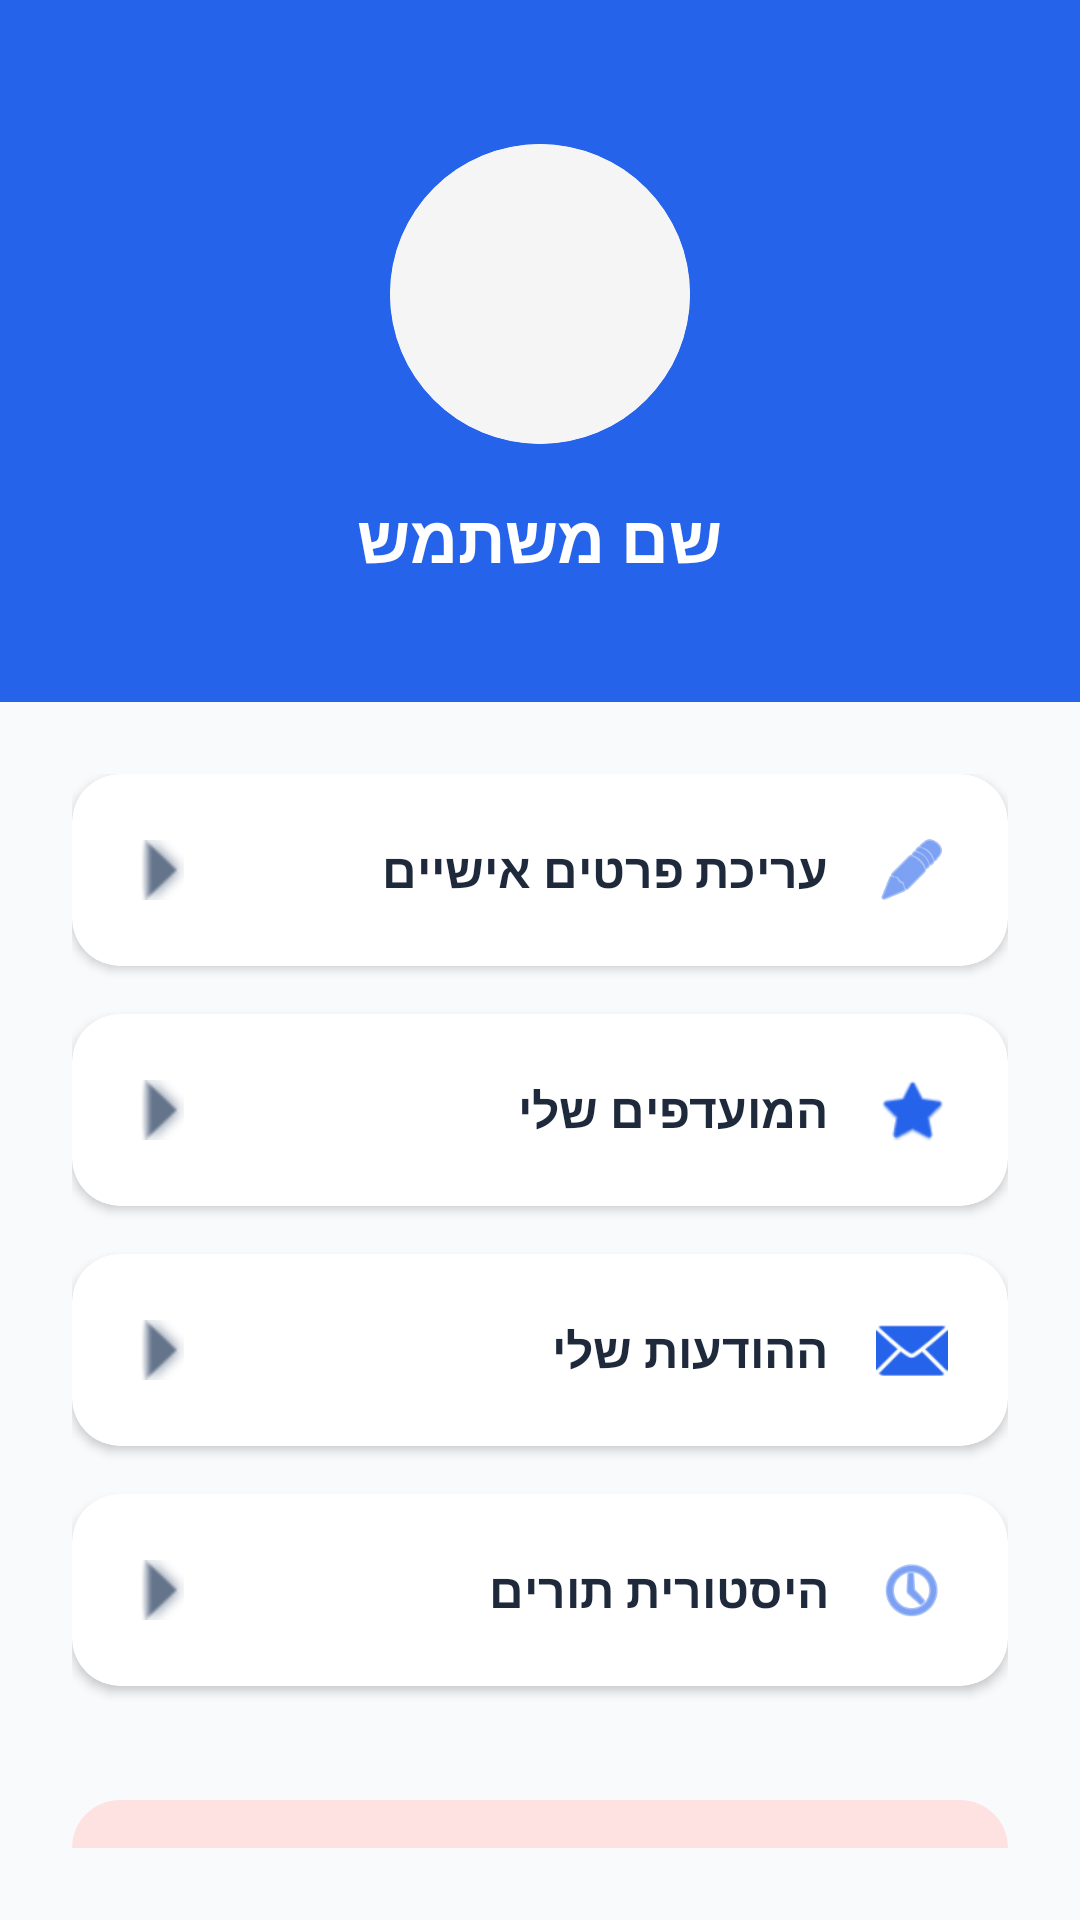

Icon bounding boxes for this 1080×1920 phone screenshot, format (x1, y1, x2, y2):
edit: (881, 839, 942, 900)
email: (876, 1325, 948, 1376)
recent history: (886, 1564, 938, 1616)
star on: (883, 1081, 943, 1140)
